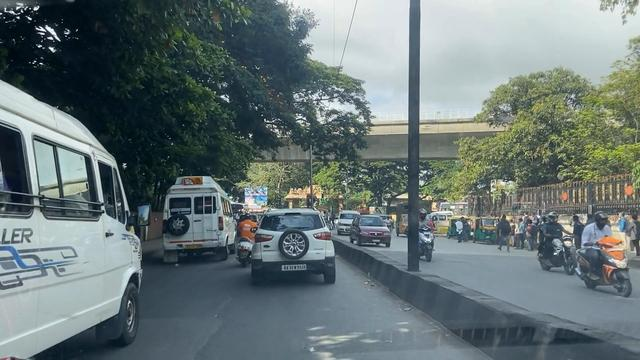HMV: (0, 89, 139, 355), (158, 169, 244, 267)
LMV: (251, 191, 349, 297), (234, 212, 260, 280)
